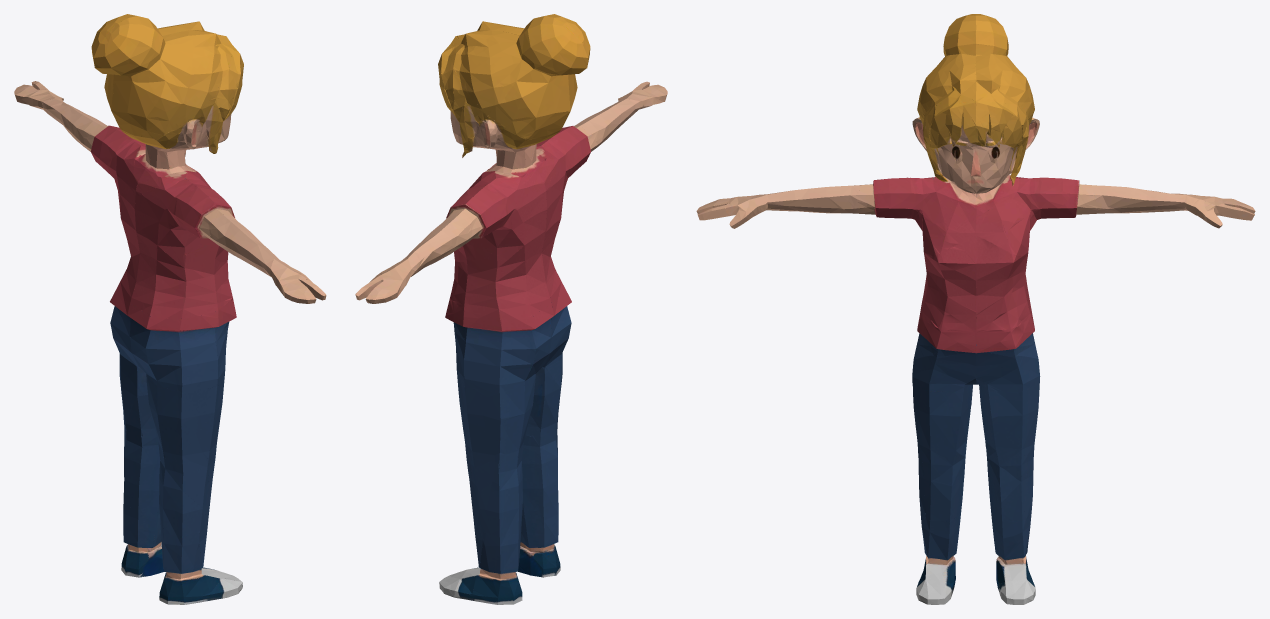
File: mom.fbx
The picture shows the model from 3 angles, left to right: view 1: azimuth 30°, elevation 25°; view 2: azimuth 150°, elevation 25°; view 3: azimuth 270°, elevation 25°; orthographic projection. The views are drawn at different scales.
Parts seen in each view (by area): view 1: mom; view 2: mom; view 3: mom.
Boxes of the visible parts, x1=… form: mom: x1=14, y1=14, x2=326, y2=604; mom: x1=355, y1=14, x2=667, y2=604; mom: x1=696, y1=14, x2=1255, y2=604.
Size of the model in its own units: 26.13 by 100 by 92.52.
1 material, 1 textured.
